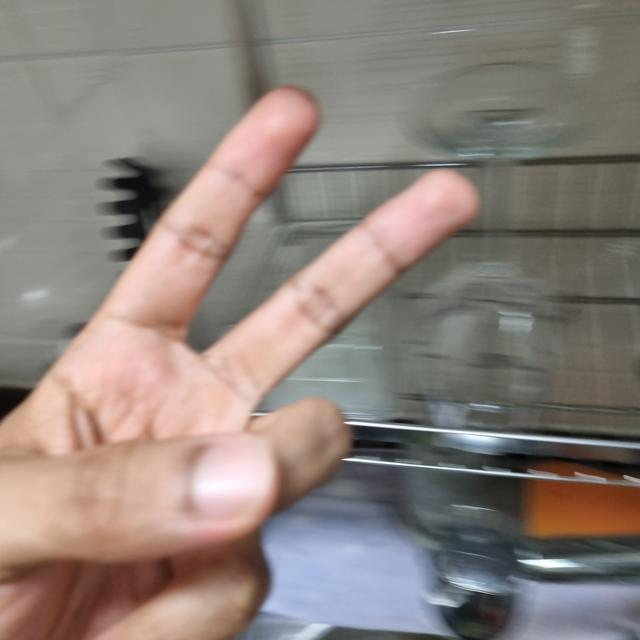Scissors: (0, 98, 469, 639)
